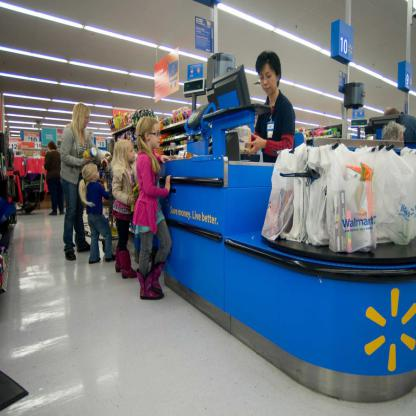face: (259, 64, 278, 96), (150, 124, 162, 149), (396, 133, 406, 153), (126, 146, 136, 163), (83, 112, 91, 129), (93, 168, 101, 181)
